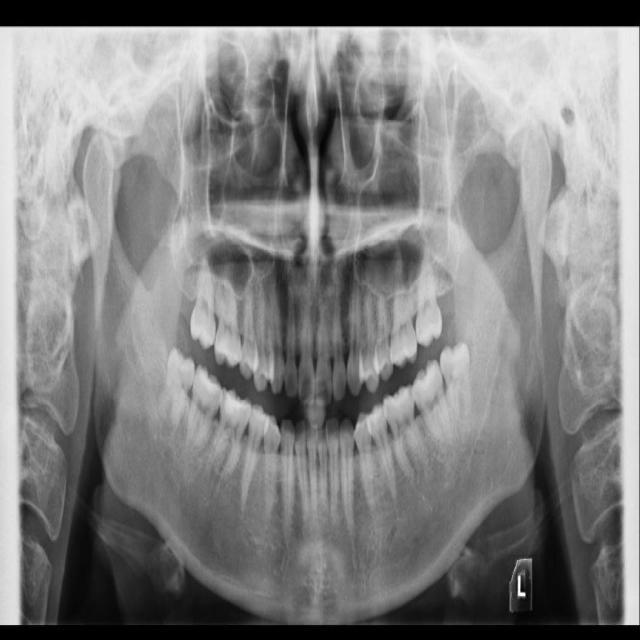73: (596, 561, 600, 570)
BioHorizons Implant: (415, 246, 442, 348)
Biomet 3i Implant: (438, 340, 472, 419)
Blue Sky Bio Implant: (405, 357, 455, 444)
Caries: (190, 255, 217, 351)
Implant: (183, 363, 227, 451)
Keystone Dental Implant: (154, 344, 202, 431)
